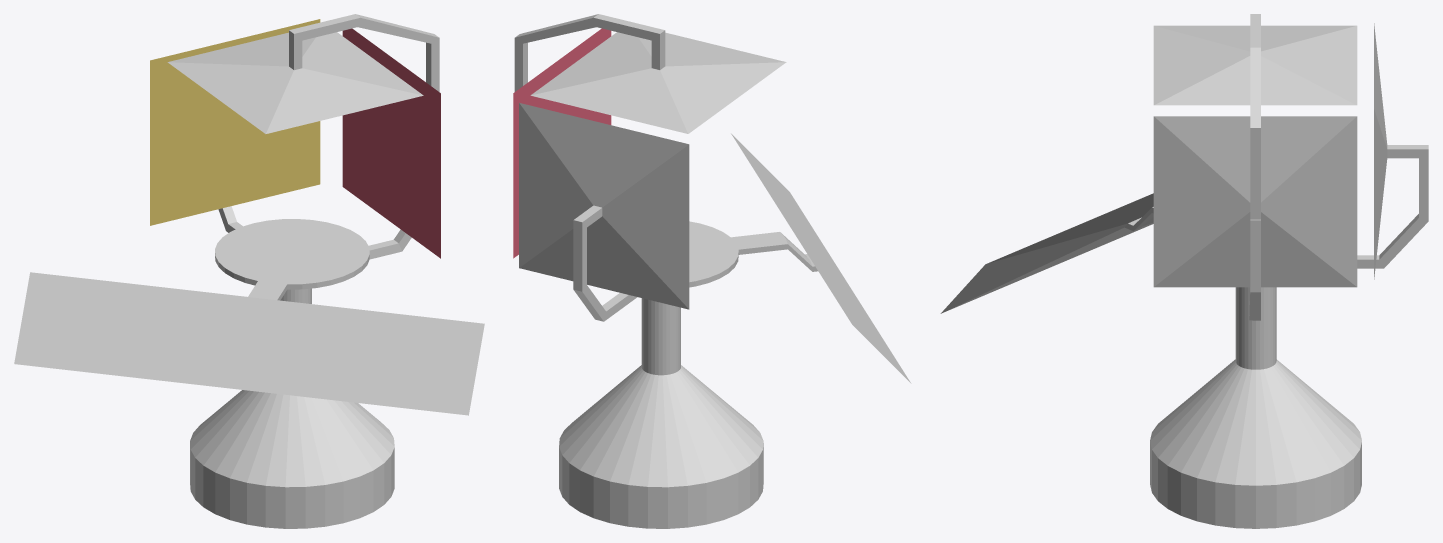
The model's file is proyector.glb.
The picture shows the model from 3 angles, left to right: view 1: azimuth 30°, elevation 25°; view 2: azimuth 150°, elevation 25°; view 3: azimuth 270°, elevation 25°; orthographic projection. The views are drawn at different scales.
Parts seen in each view (by area): view 1: Proyector; view 2: Proyector; view 3: Proyector.
Boxes of the visible parts, box(x1,y1,x2,y2) form: Proyector: box(14, 14, 484, 528); Proyector: box(513, 14, 911, 528); Proyector: box(940, 14, 1428, 528).
Size of the model in its own units: 1.86 by 1.97 by 1.85.
